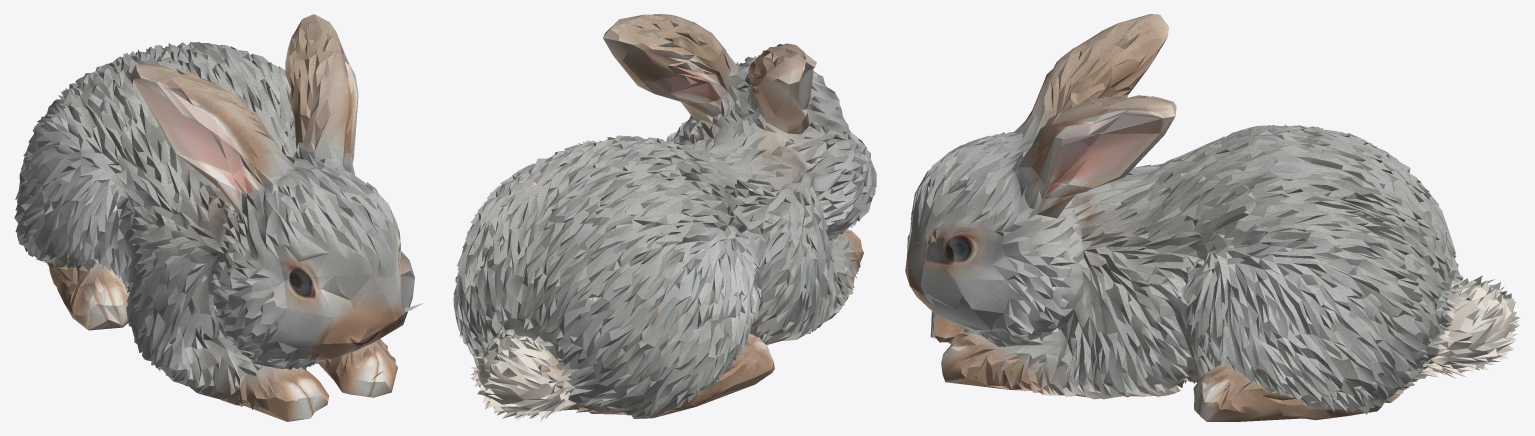
File: rabbit-grey.glb
3 views of the same model, side by side, from view 1: azimuth 30°, elevation 25°; view 2: azimuth 150°, elevation 25°; view 3: azimuth 270°, elevation 25° (orthographic). The views are drawn at different scales.
Bounding box in the file's own units: 0.9775 × 0.9465 × 1.77.
Materials: 1 (1 with a texture image).
